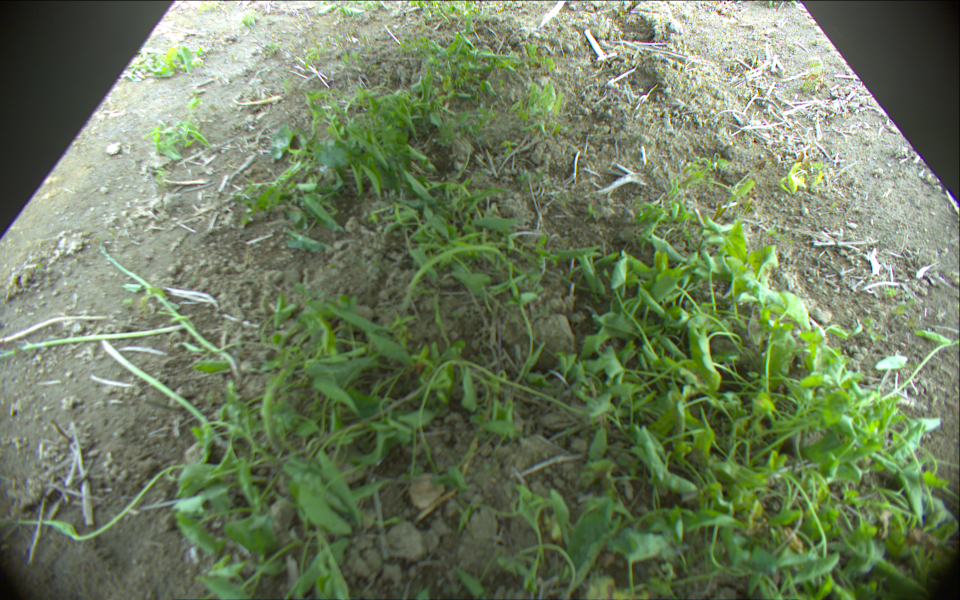aspa: (100, 243, 242, 375), (104, 343, 215, 447), (1, 324, 184, 360)
